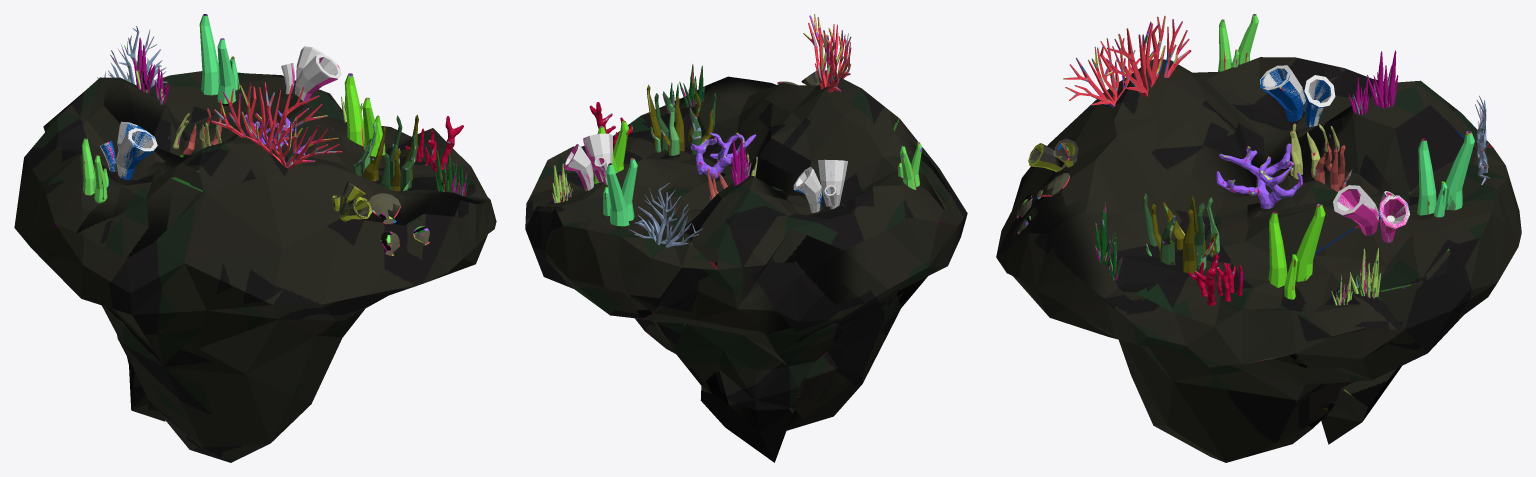
The model's file is coral1.gltf.
The picture shows the model from 3 angles, left to right: view 1: azimuth 30°, elevation 25°; view 2: azimuth 150°, elevation 25°; view 3: azimuth 270°, elevation 25°; orthographic projection. The views are drawn at different scales.
Parts seen in each view (by area): view 1: Coral.007, corral, coral, coral.001; view 2: Coral.007, coral, corral; view 3: Coral.007, coral, corral, coral.001.
Boxes of the visible parts, left/top/right/bottom form: Coral.007: left=14, top=14, right=496, bottom=462; corral: left=281, top=46, right=341, bottom=100; coral: left=100, top=121, right=157, bottom=178; coral.001: left=331, top=181, right=371, bottom=218; Coral.007: left=525, top=14, right=967, bottom=462; coral: left=793, top=159, right=847, bottom=213; corral: left=565, top=133, right=612, bottom=191; Coral.007: left=996, top=14, right=1521, bottom=462; coral: left=1260, top=65, right=1335, bottom=127; corral: left=1333, top=185, right=1409, bottom=242; coral.001: left=1030, top=138, right=1078, bottom=168.
Bounding box in the file's own units: 2.95 × 2.71 × 2.92.
Materials: 2 (2 with a texture image).
